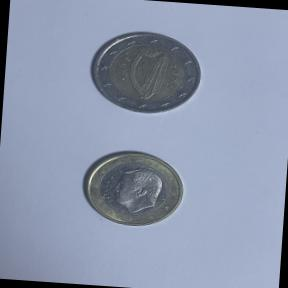coin: (84, 25, 205, 122), (76, 144, 190, 233)
